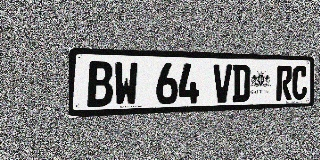4: (179, 63, 199, 104)
6: (156, 63, 178, 105)
B: (87, 61, 113, 107)
C: (292, 66, 308, 100)
D: (232, 64, 250, 102)
R: (276, 65, 292, 101)
V: (213, 64, 232, 103)
W: (114, 62, 138, 106)
